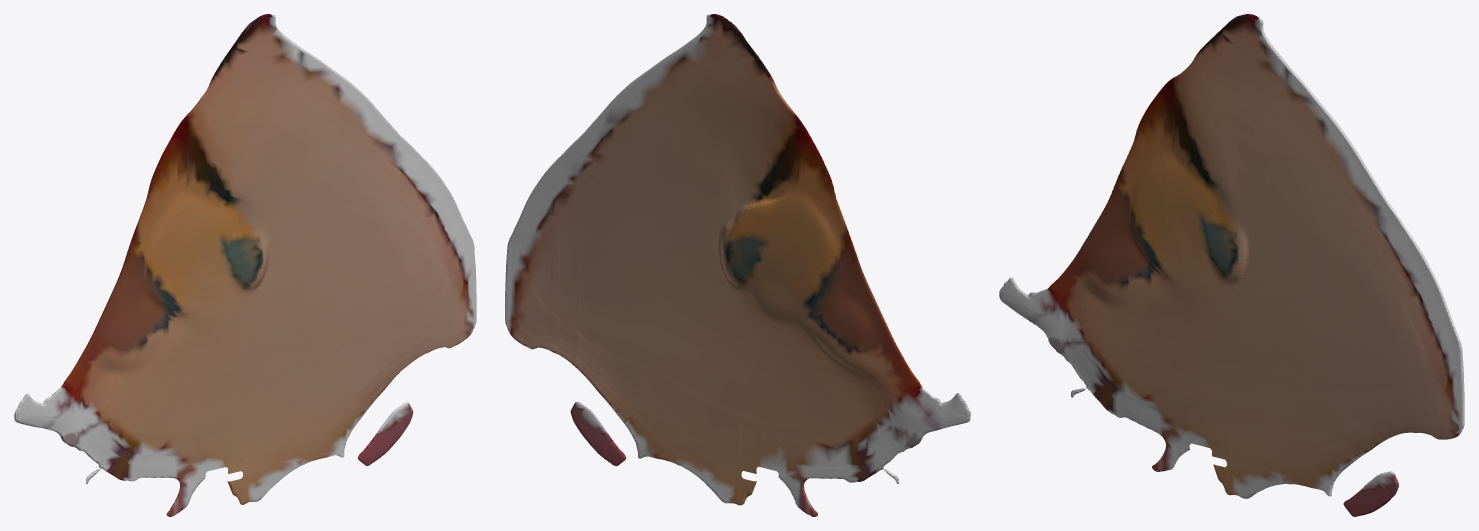
File: dirt.glb
The picture shows the model from 3 angles, left to right: view 1: azimuth 30°, elevation 25°; view 2: azimuth 150°, elevation 25°; view 3: azimuth 330°, elevation 25°; orthographic projection.
Visible parts, largest first — view 1: geometry_0; view 2: geometry_0; view 3: geometry_0.
Boxes of the visible parts, x1=… form: geometry_0: x1=14, y1=14, x2=476, y2=516; geometry_0: x1=505, y1=14, x2=970, y2=516; geometry_0: x1=999, y1=14, x2=1464, y2=516.
Bounding box in the file's own units: 0.5618 × 0.5625 × 0.0185.
